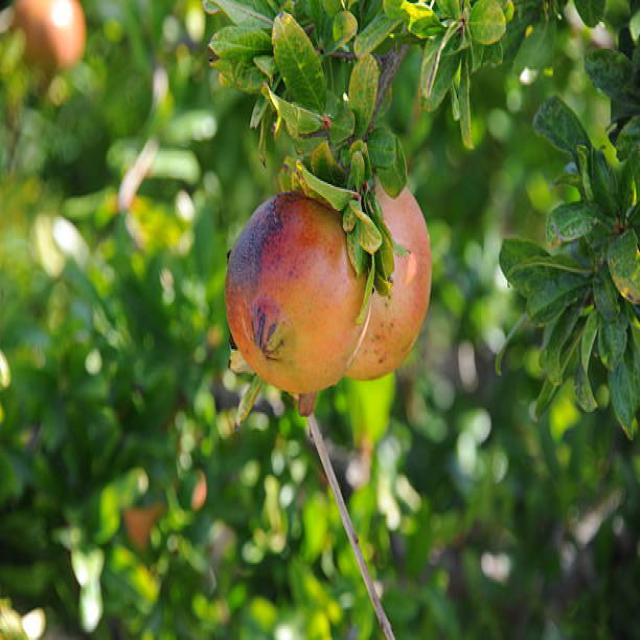Unripe: (224, 186, 372, 397)
